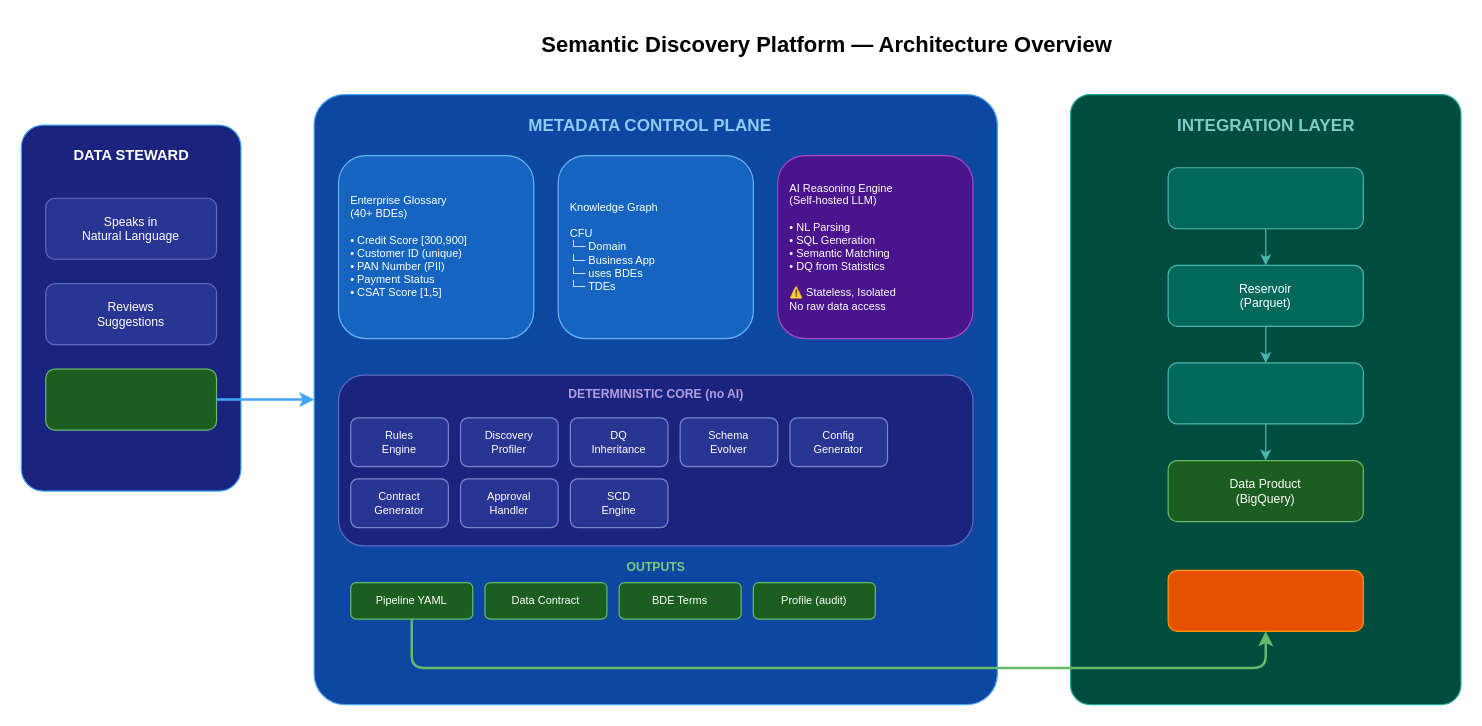
Image size: 1482x726. Some labels were removed from this diagram. The centre of each missing label's shape, as x and y in pixels:
Approves (1 click): point 131,399
CCN (Apache Iceberg): point 1265,393
Cloud Function (Event-Driven): point 1265,600
Landing (JSONL): point 1265,198
